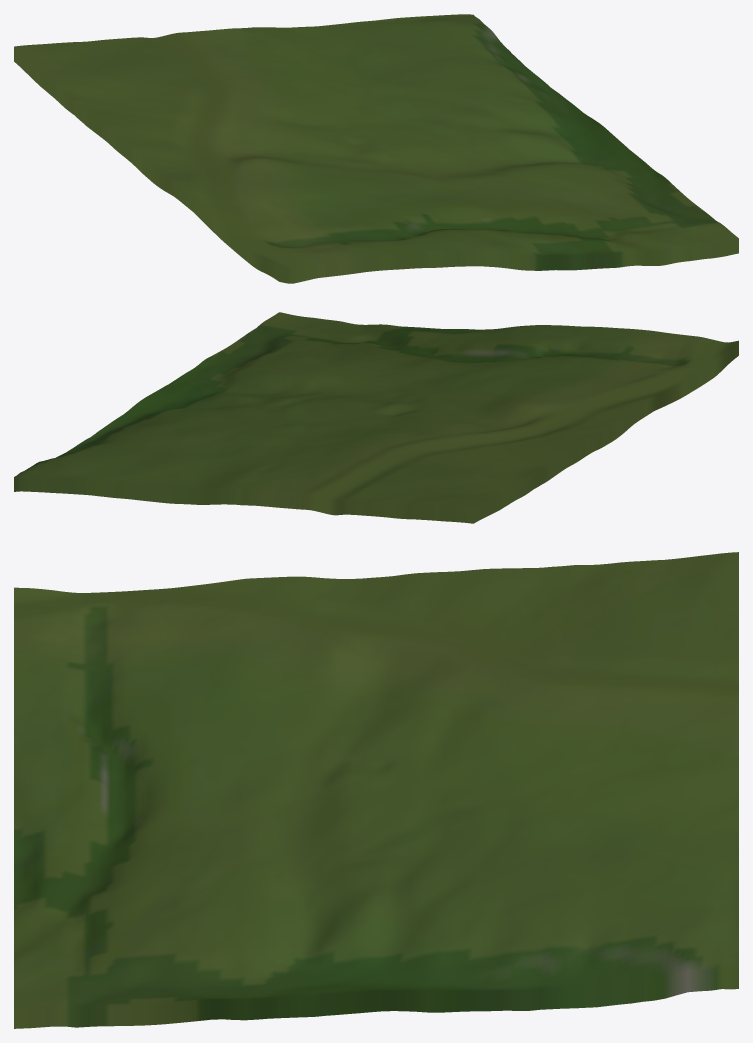
Rendered from terrain_8_-16.glb.
3 views of the same model, one above another, from view 1: azimuth 30°, elevation 25°; view 2: azimuth 150°, elevation 25°; view 3: azimuth 270°, elevation 25° (orthographic). The views are drawn at different scales.
Parts seen in each view (by area): view 1: terrain_8_-16; view 2: terrain_8_-16; view 3: terrain_8_-16.
Boxes of the visible parts, x1=… form: terrain_8_-16: x1=14, y1=14, x2=738, y2=283; terrain_8_-16: x1=14, y1=312, x2=738, y2=523; terrain_8_-16: x1=14, y1=552, x2=738, y2=1028.
Size of the model in its own units: 256 by 66.4 by 256.
